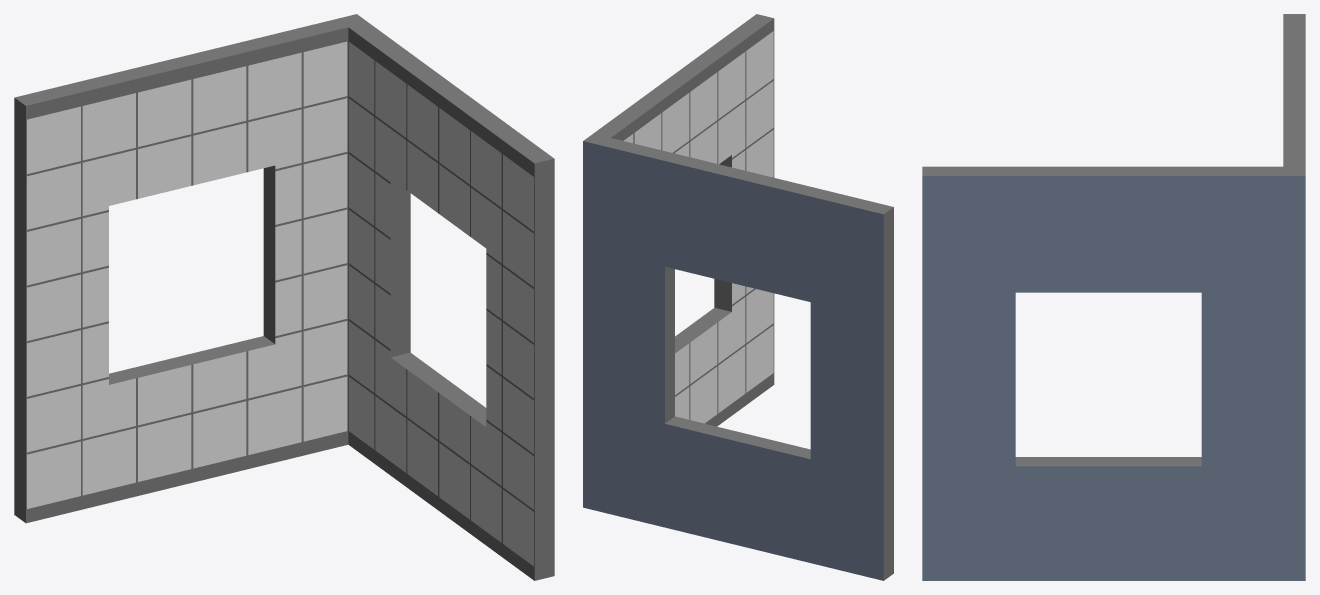
File: Wall3_C7_12.fbx
3 renders of one model, left to right at view 1: azimuth 30°, elevation 25°; view 2: azimuth 150°, elevation 25°; view 3: azimuth 270°, elevation 25°, orthographic. The views are drawn at different scales.
Visible parts, largest first — view 1: Wall3_C7_12; view 2: Wall3_C7_12; view 3: Wall3_C7_12.
Boxes of the visible parts, x1,y1,x2,y2 form: Wall3_C7_12: (14,14,554,580); Wall3_C7_12: (583,14,893,580); Wall3_C7_12: (922,14,1305,580).
Size of the model in its own units: 258 by 300 by 258.
